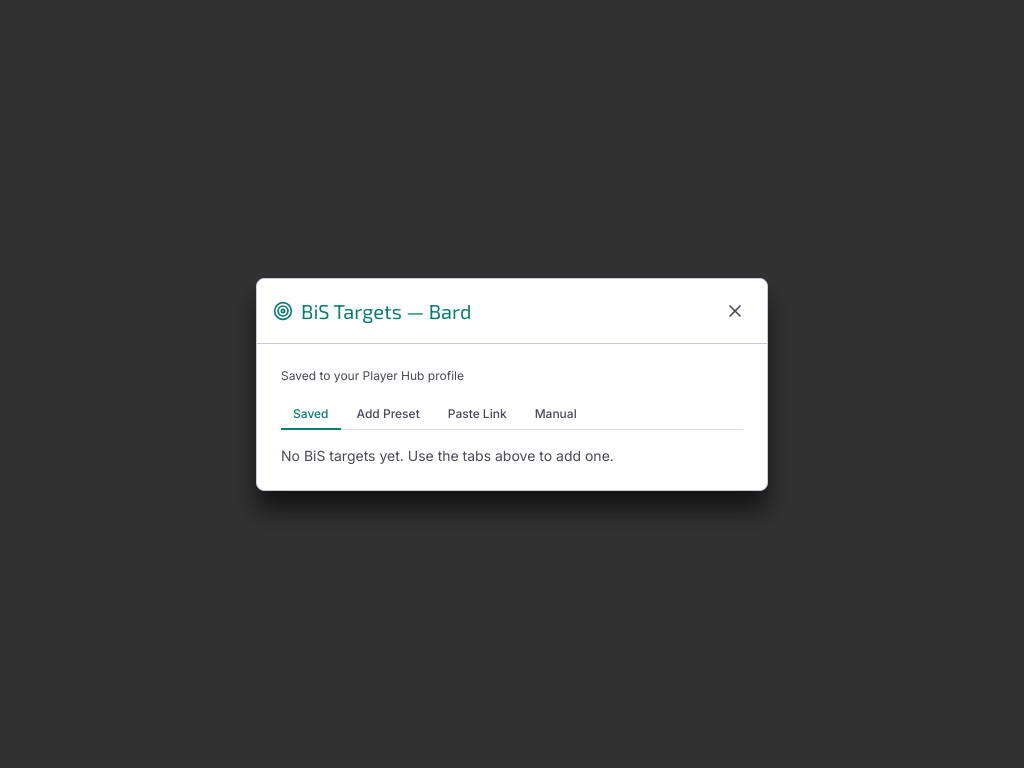
Scenario: ManageBiSModal › requires selecting a XivGear set when a pasted sheet has multiple sets
Click the button "Paste Link" at point(477, 414), box [436,400,519,428]
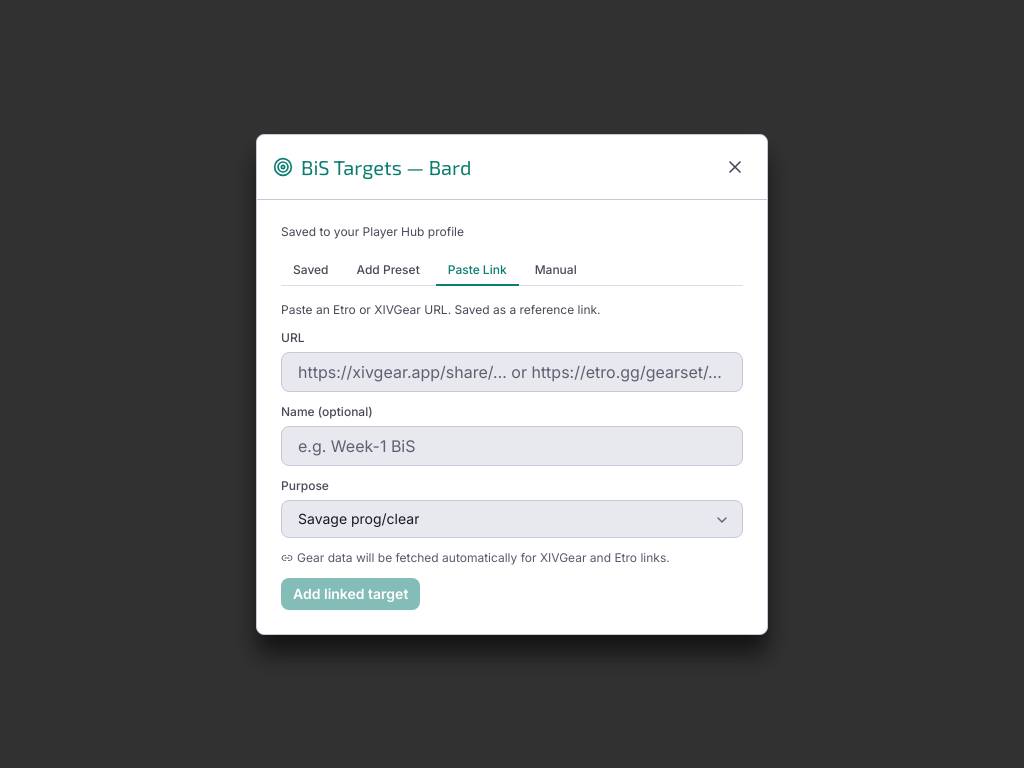
Type "https://xivgear.app/?page=sl|sheet-id" into the field with test id "bis-link-url-input" at point(512, 372), box [281,352,743,392]
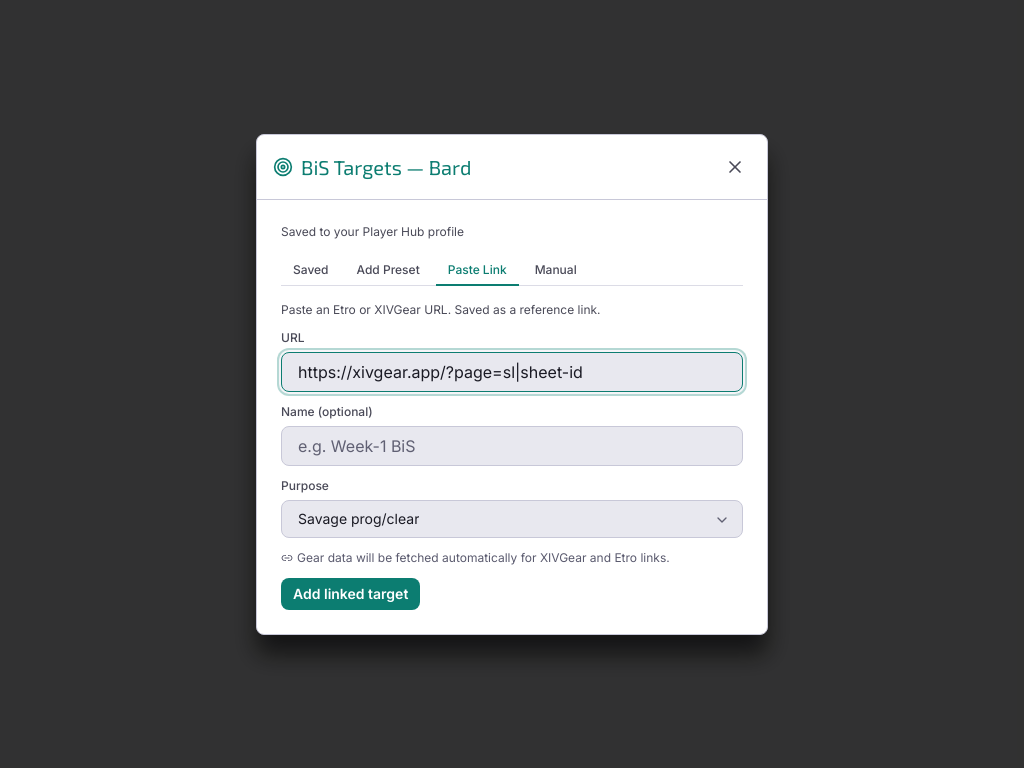
Result: the button with test id "add-link-btn" is enabled
Click the button with test id "add-link-btn" at point(351, 594), box [281,578,420,610]
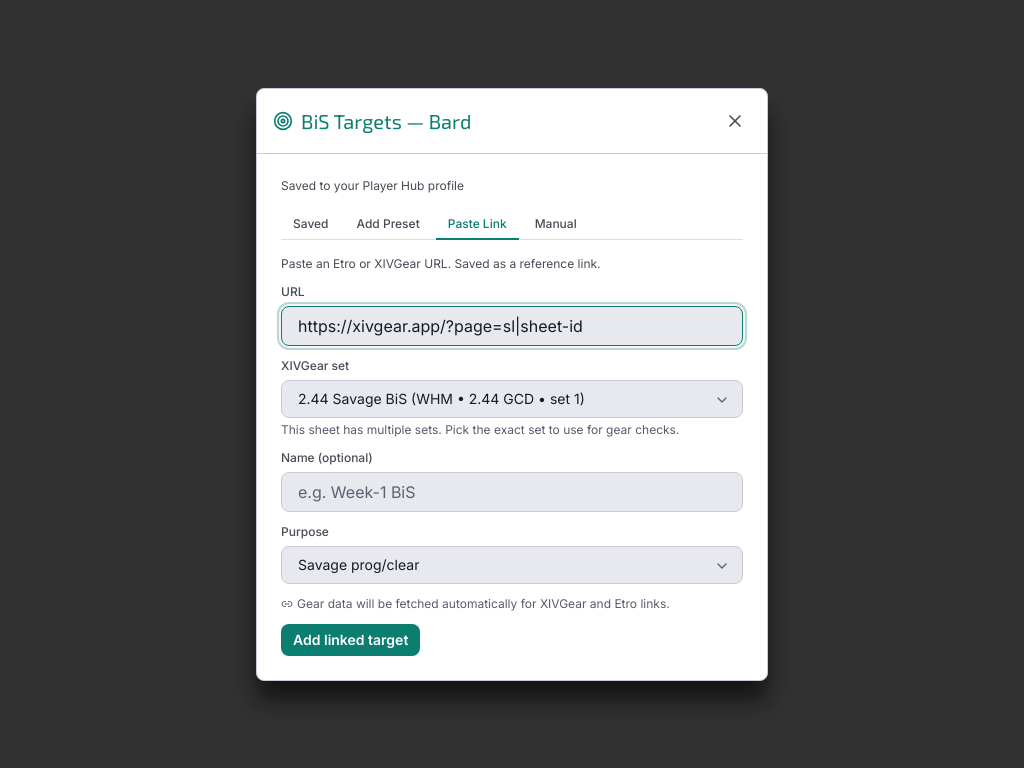
Result: the text "2.44 Savage BiS (WHM • 2.44 GCD • set 1)" is shown at [298,388,585,408]
